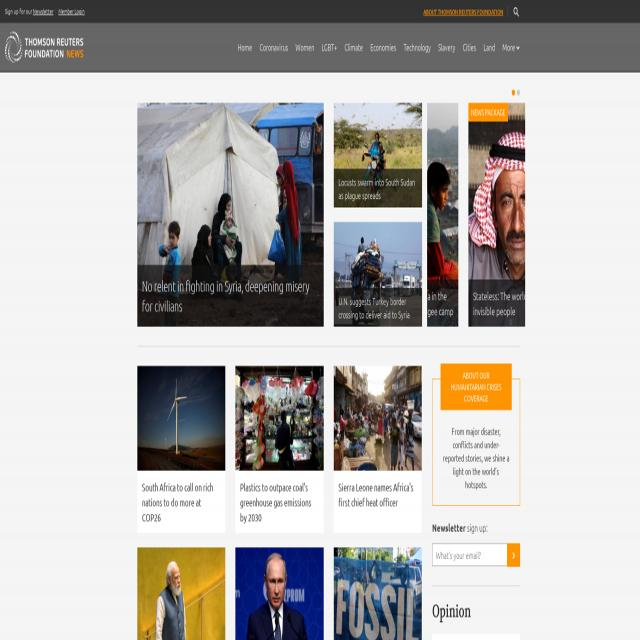button: (137, 102, 324, 328), (333, 365, 423, 534), (235, 366, 325, 533), (137, 364, 225, 534), (468, 103, 525, 326), (333, 102, 422, 207), (334, 222, 423, 327), (235, 546, 324, 640), (333, 546, 422, 640), (137, 546, 225, 640), (427, 101, 459, 328), (5, 32, 83, 63), (508, 544, 520, 568), (512, 6, 520, 18)
field: (432, 544, 508, 567)
